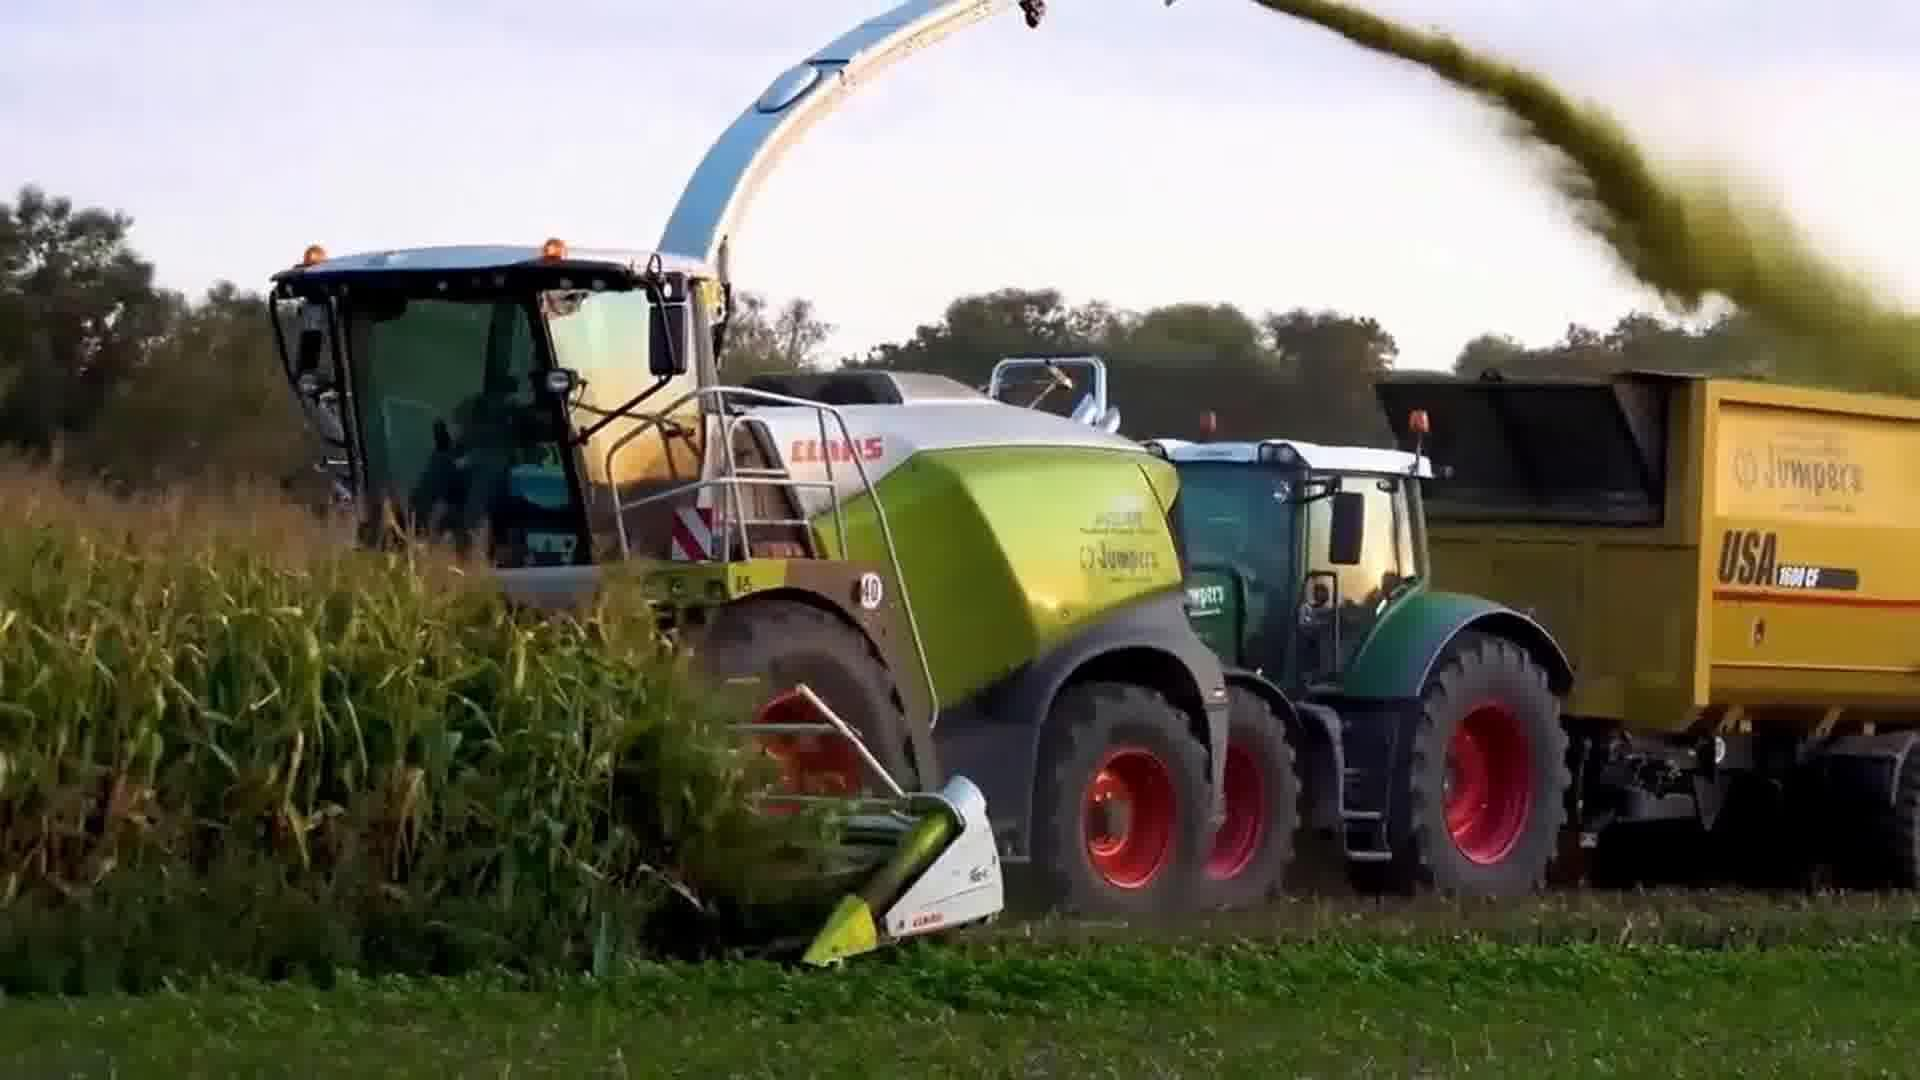combine harvester: (231, 3, 1590, 986)
tractor: (1170, 427, 1578, 920)
trailer: (1369, 349, 1920, 913)
